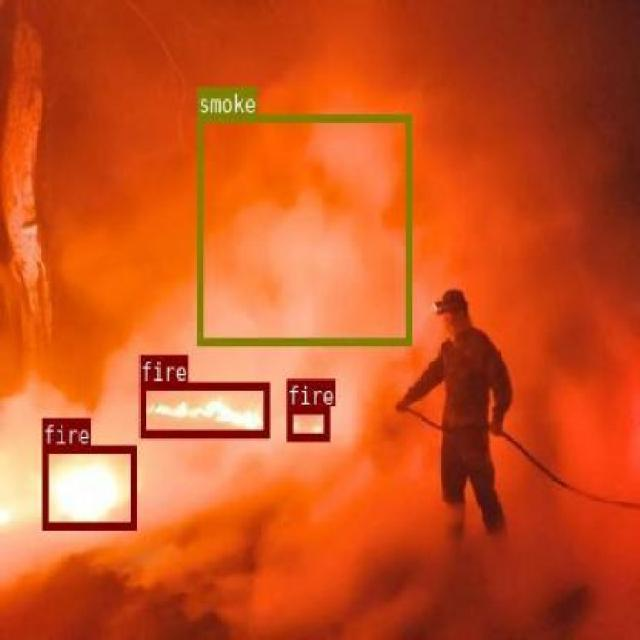Fire: (41, 444, 136, 530), (138, 381, 270, 437), (286, 406, 328, 440)
Smoke: (196, 114, 410, 343)
